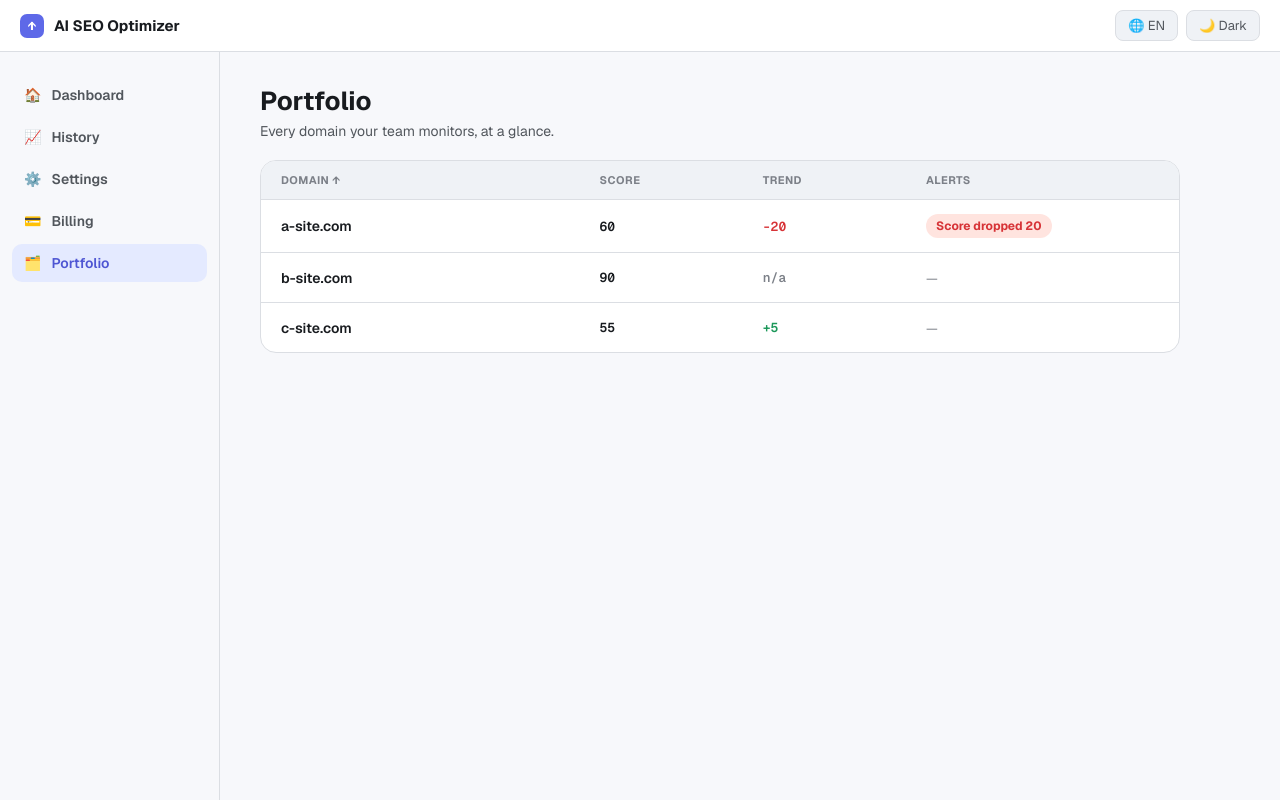
Test case: Portfolio: table › sorts by score descending after clicking the Score header twice
Expected: the text "a-site.com" is shown, [281,217,352,235]
Click the button "Score". click: [677, 180]
box: [600,173,755,187]
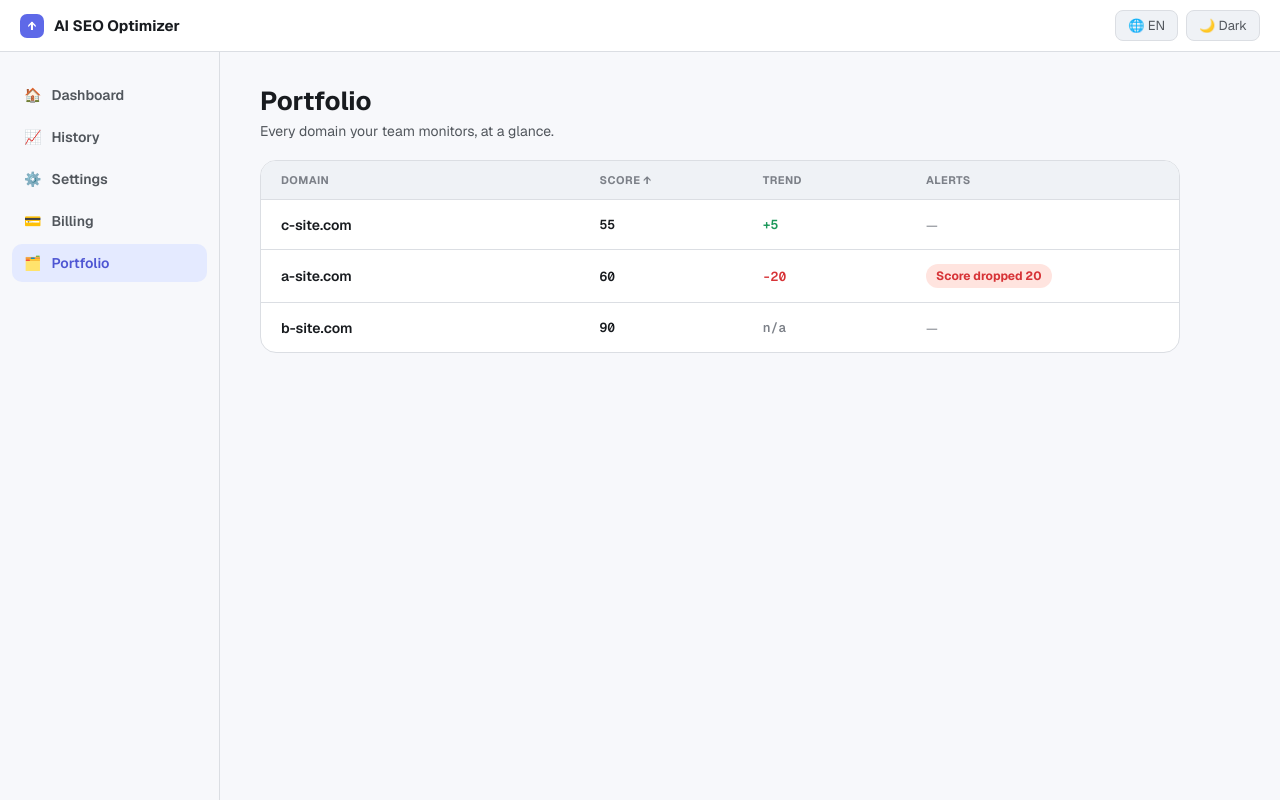
Click the button "Score ↑". click: [677, 180]
box: [600,173,755,187]
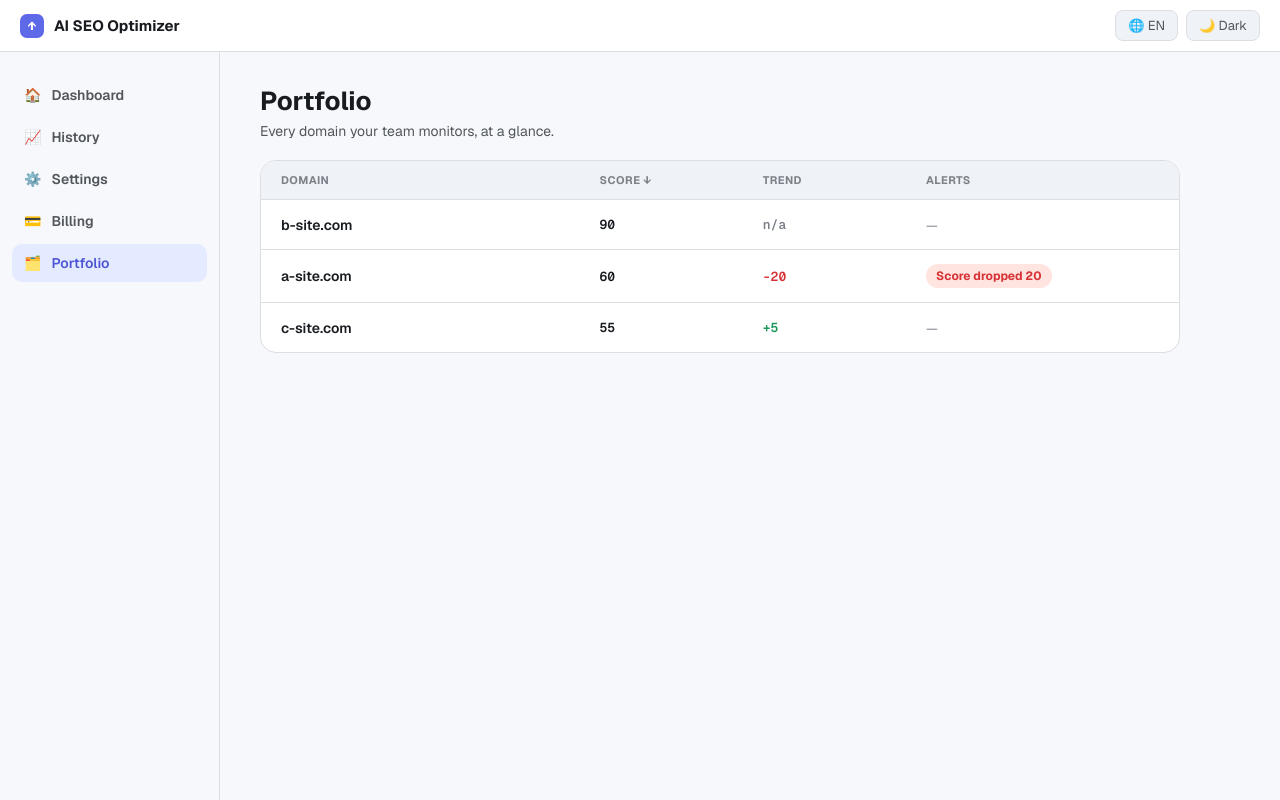
Result: the elements "-site.com" read "b-site.com", "a-site.com", "c-site.com", in this order at [281,216,352,234]; [281,267,352,285]; [281,318,352,336]
